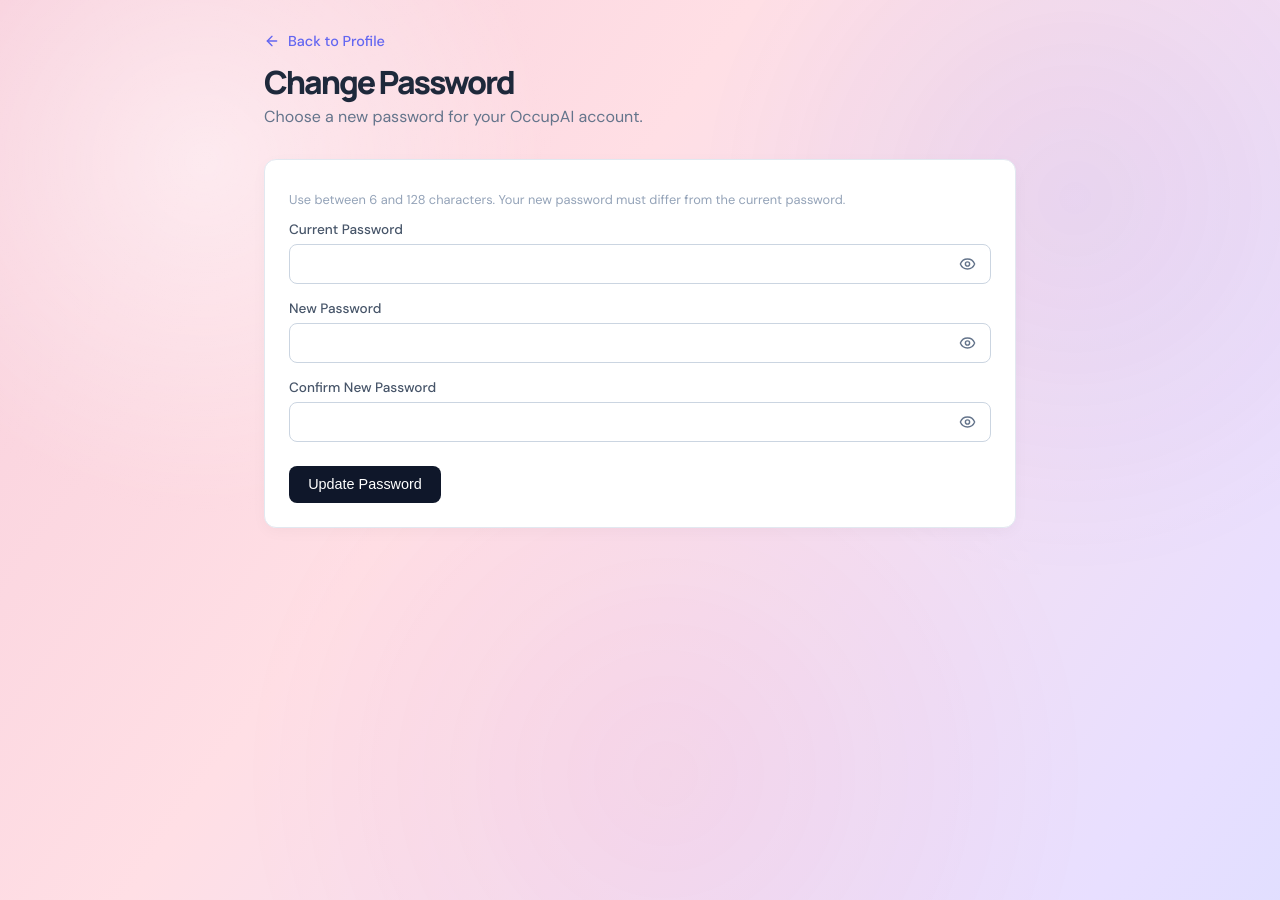
Test case: Dedicated password page › prevents mismatched passwords from being submitted
In the password field labelled "Current Password": (640, 264) [289,244,991,284], type "Current1!"
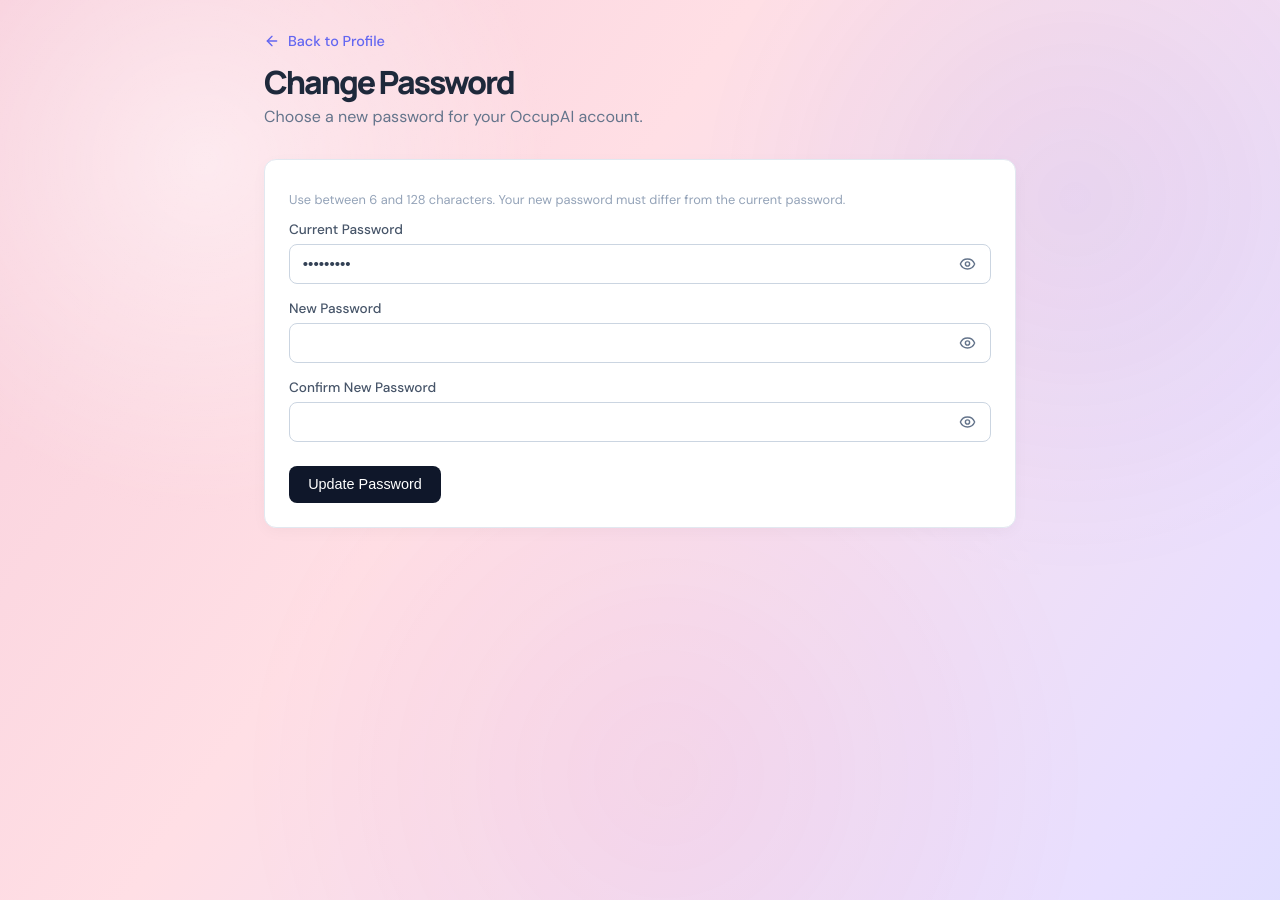
In the password field labelled "New Password": (640, 343) [289,323,991,363], type "NewPassword1!"
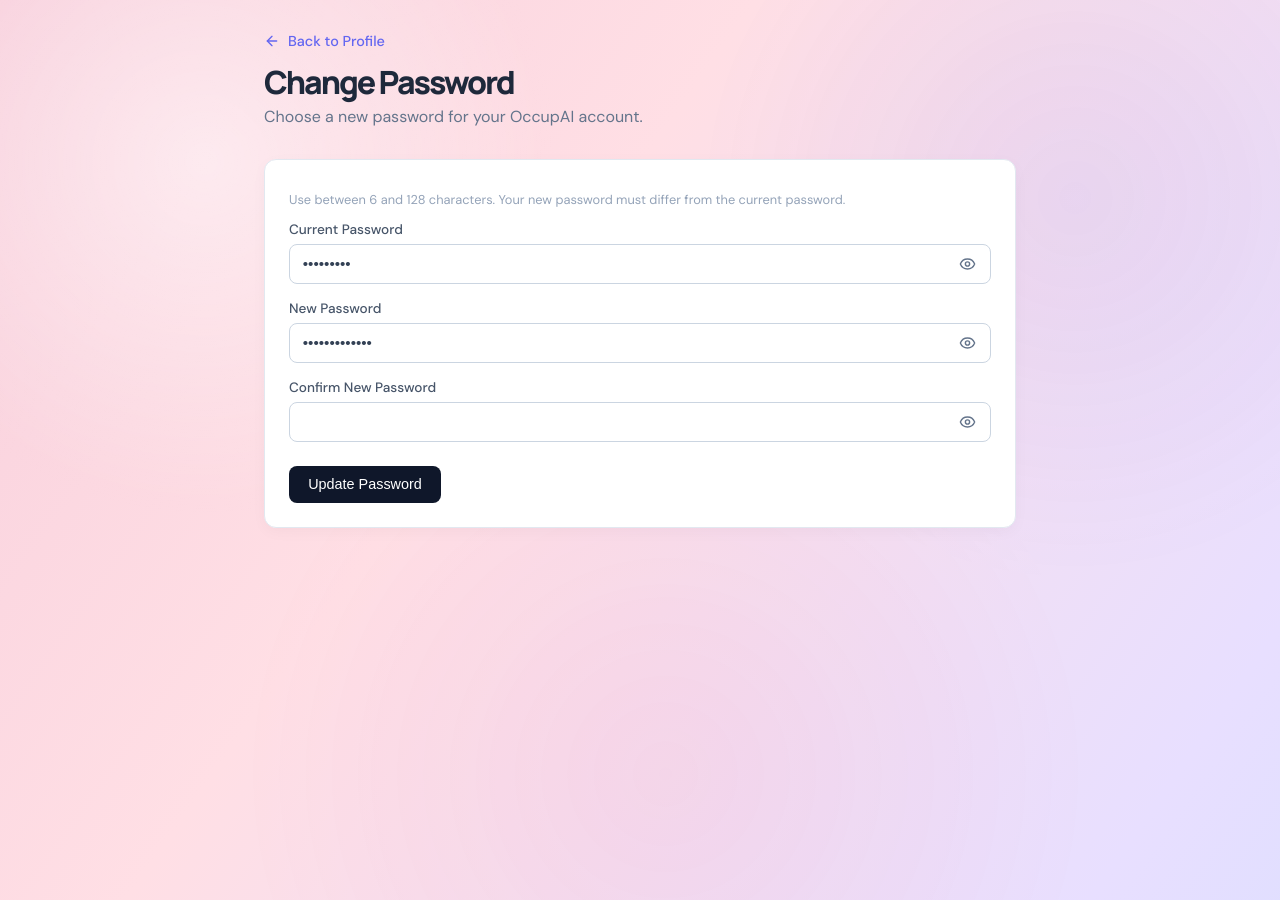
In the password field labelled "Confirm New Password": (640, 422) [289,402,991,442], type "Different1!"
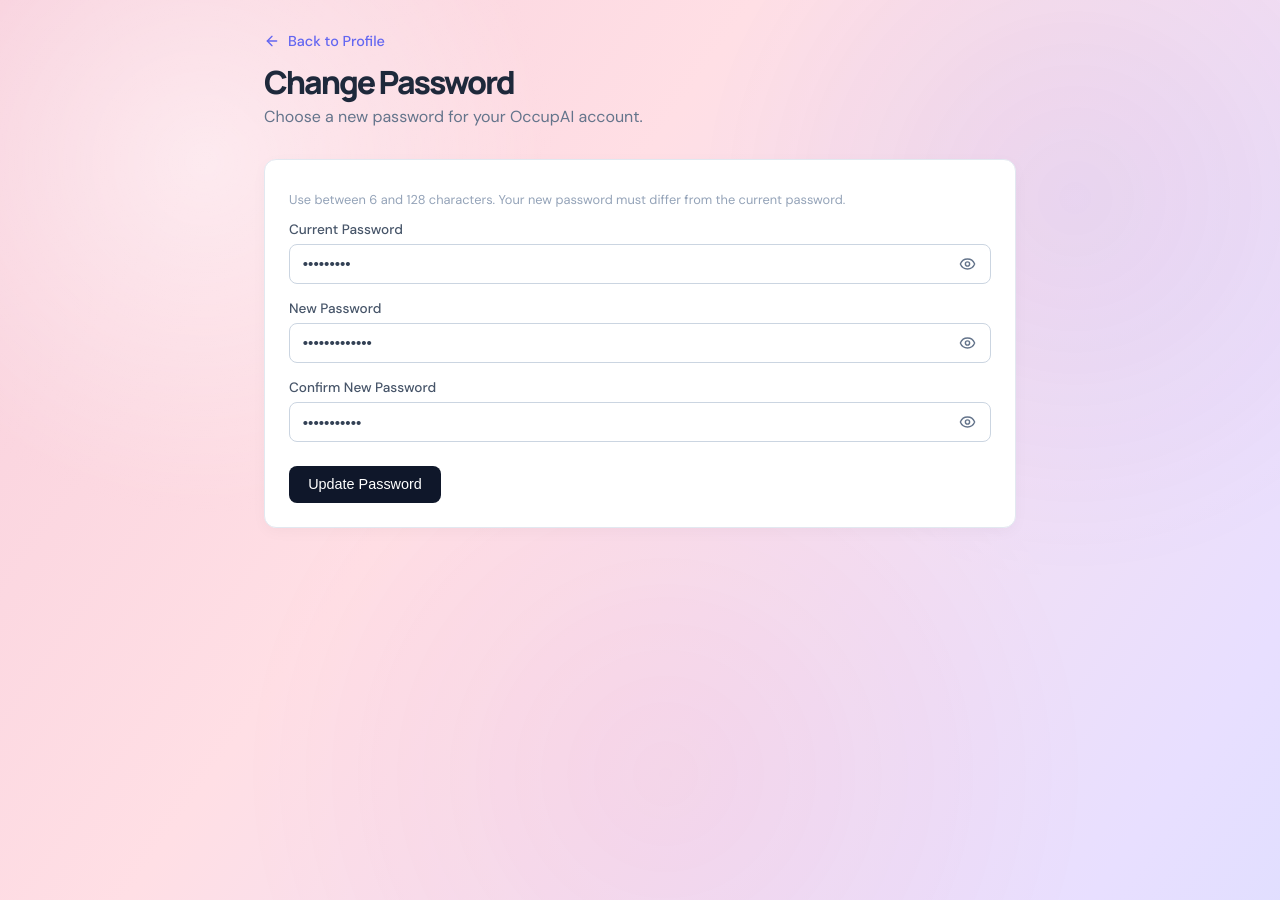
Click the button "Update Password": (365, 484) [289,466,441,503]
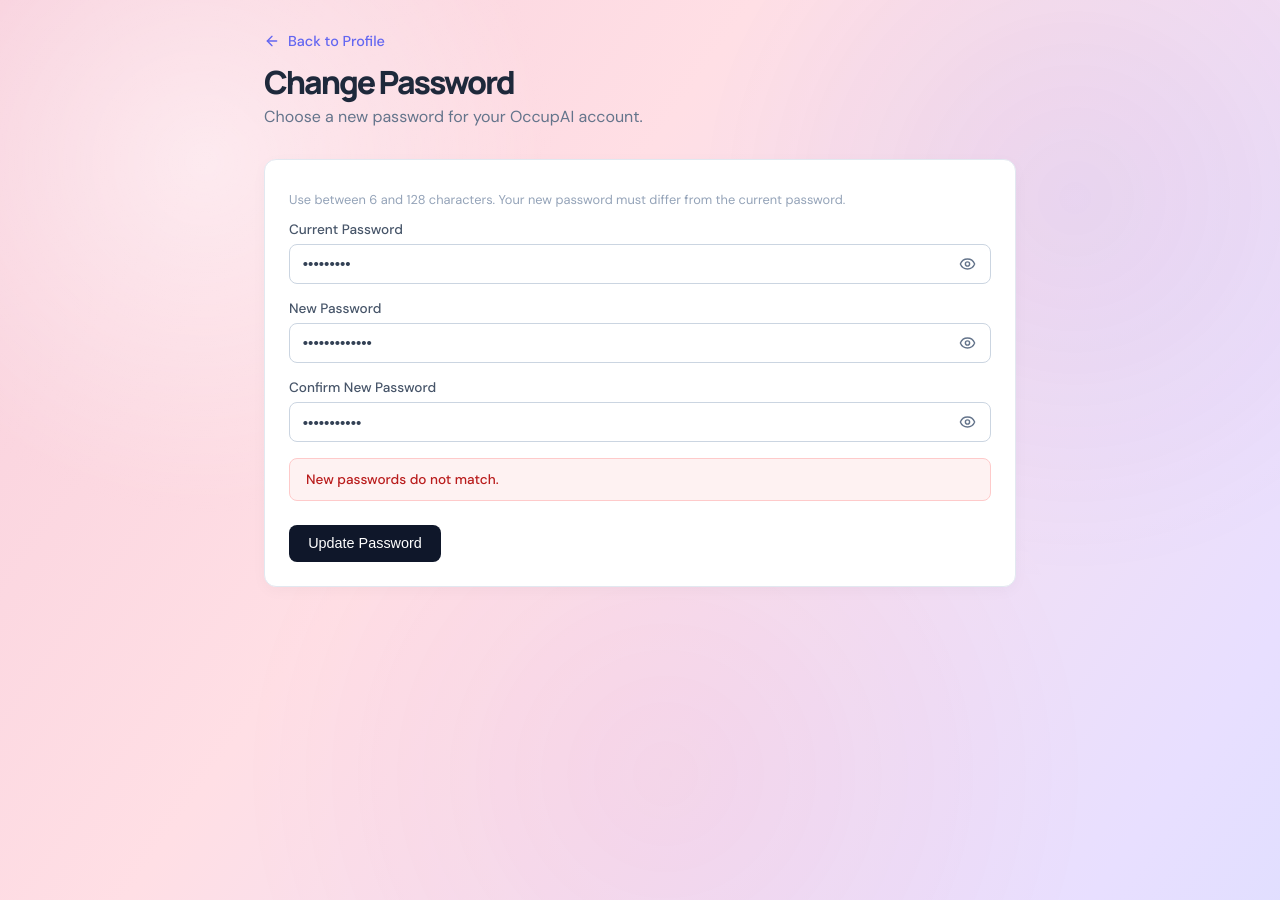
Check: the message shows "do not match", box [306,471,499,488]
